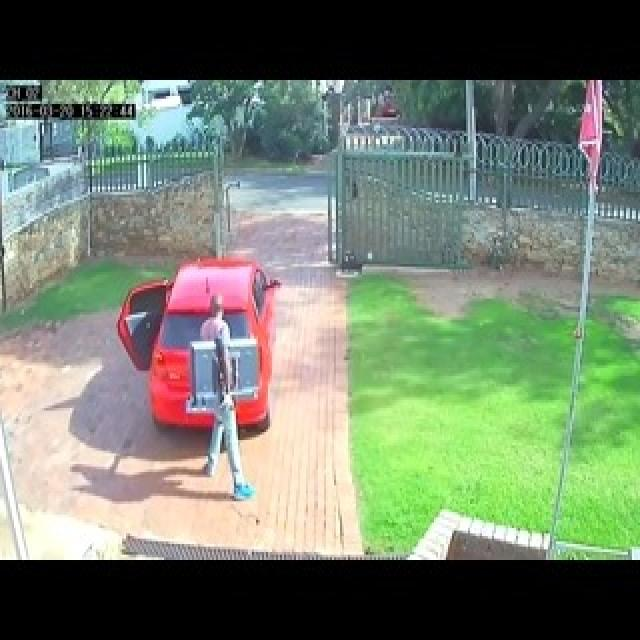thief: (198, 282, 241, 412)
